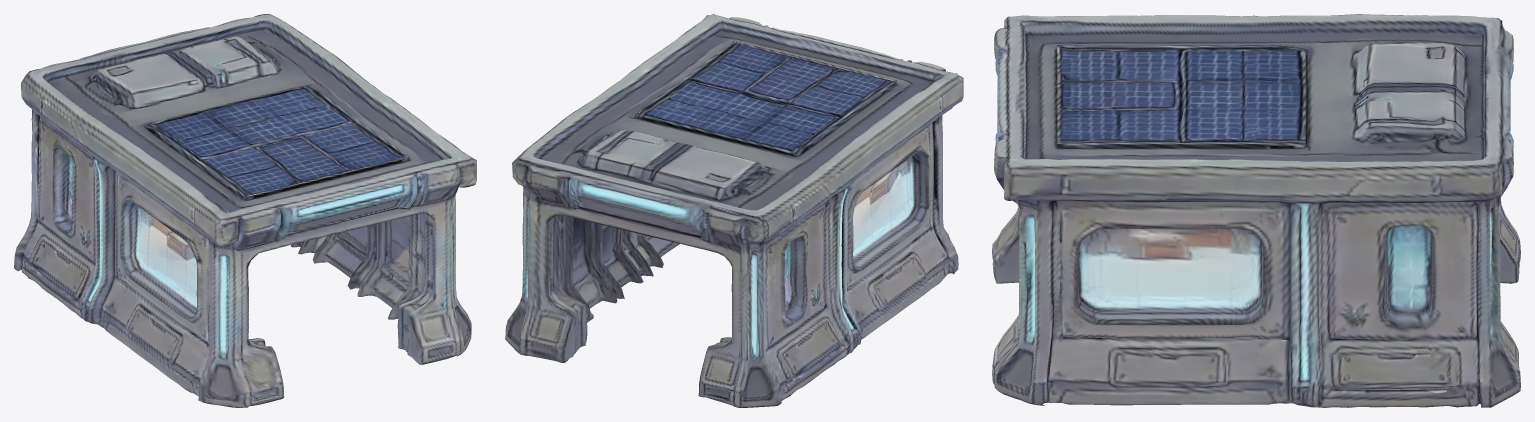
The model's file is lod_house_no_floor.fbx.
The picture shows the model from 3 angles, left to right: view 1: azimuth 30°, elevation 25°; view 2: azimuth 150°, elevation 25°; view 3: azimuth 270°, elevation 25°; orthographic projection. The views are drawn at different scales.
Parts seen in each view (by area): view 1: model_LOD0; view 2: model_LOD0; view 3: model_LOD0.
Part boxes in pixels (x1,y1,x2,y2): model_LOD0: (14,14,476,407); model_LOD0: (505,14,963,407); model_LOD0: (992,14,1520,407).
Size of what is drawn, in the model's own units: 146 by 95.12 by 190.
